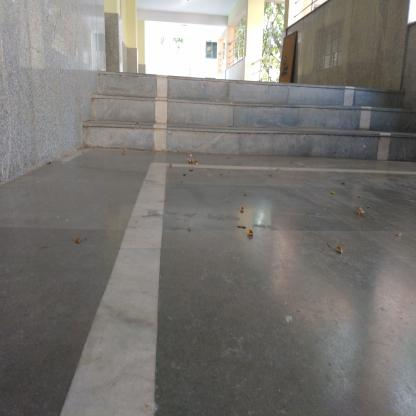stairs: (101, 86, 396, 166)
